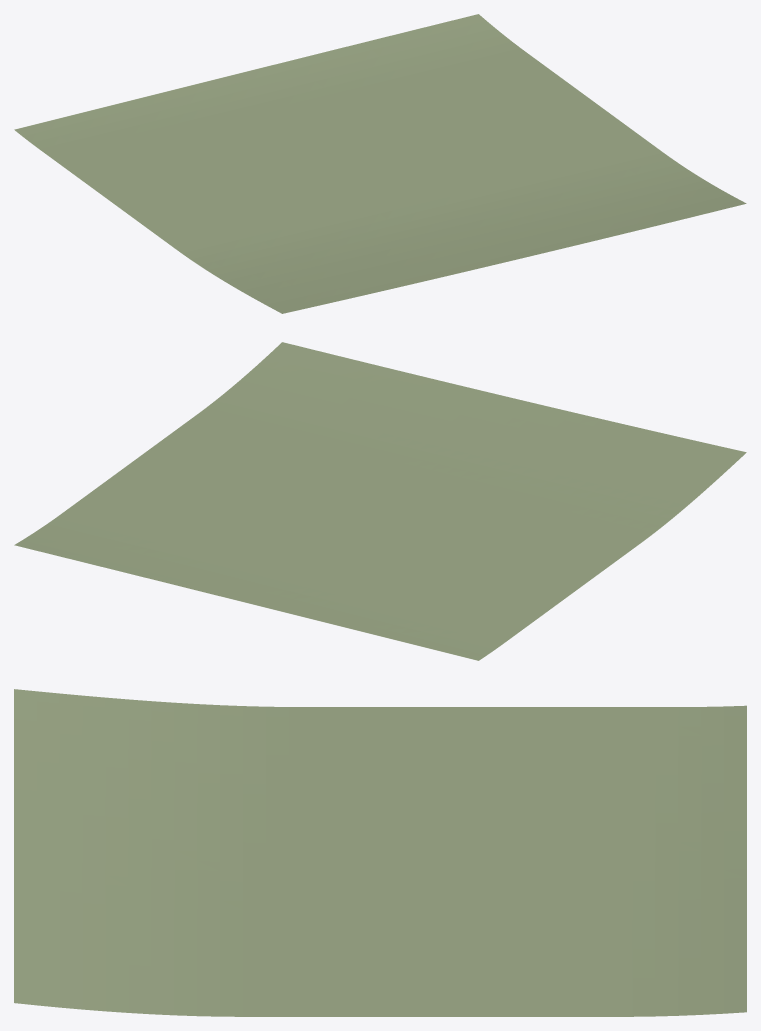
Rendered from valley-13-8.glb.
The picture shows the model from 3 angles, top to bottom: view 1: azimuth 30°, elevation 25°; view 2: azimuth 150°, elevation 25°; view 3: azimuth 270°, elevation 25°; orthographic projection. The views are drawn at different scales.
Visible parts, largest first — view 1: valley-13-8; view 2: valley-13-8; view 3: valley-13-8.
Boxes of the visible parts, <box> form: valley-13-8: <box>14,14,746,313</box>; valley-13-8: <box>14,342,746,660</box>; valley-13-8: <box>14,689,746,1016</box>.
Size of the model in its own units: 256 by 6.95 by 256.
